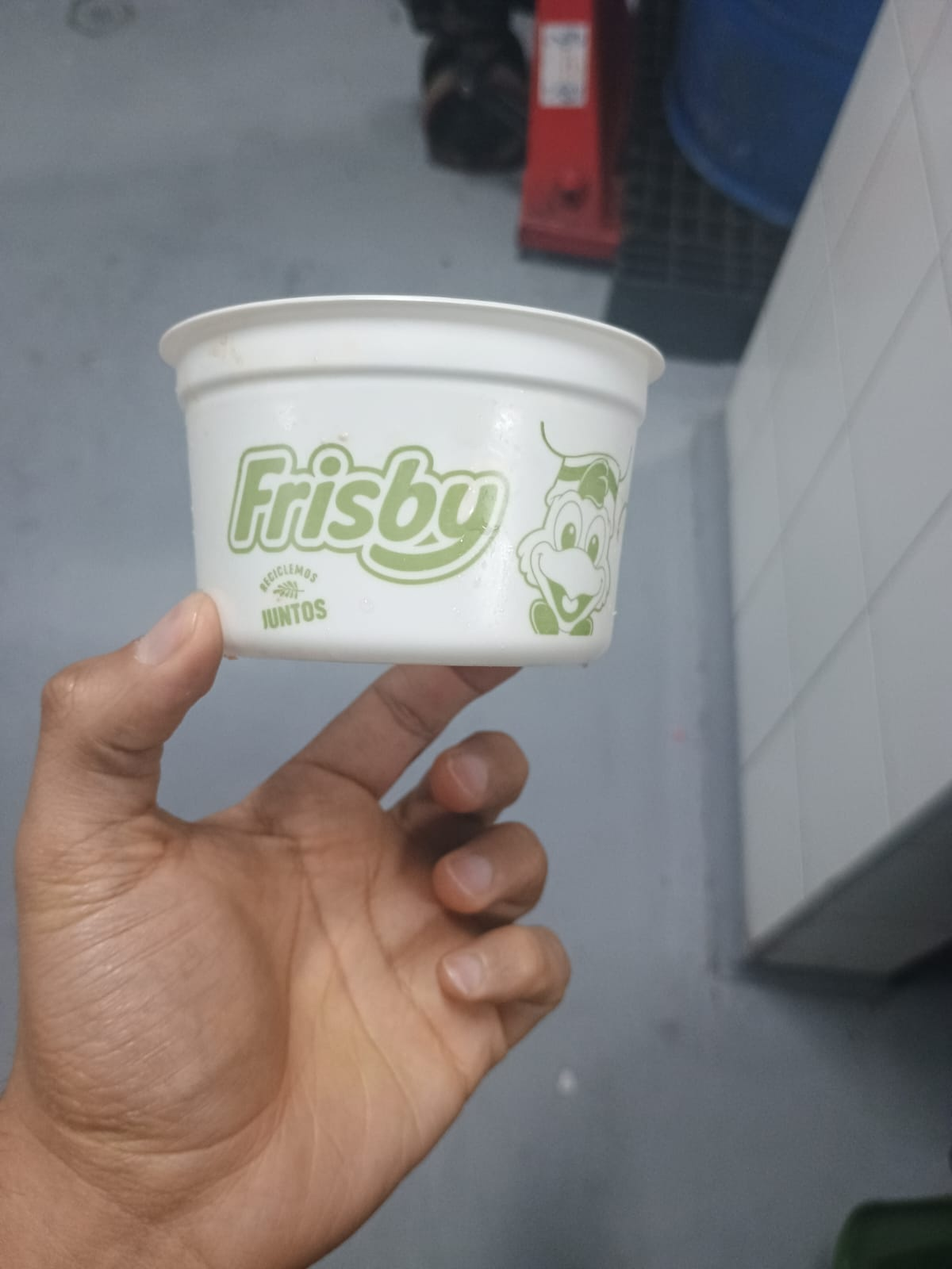Plastico: (161, 292, 666, 665)
